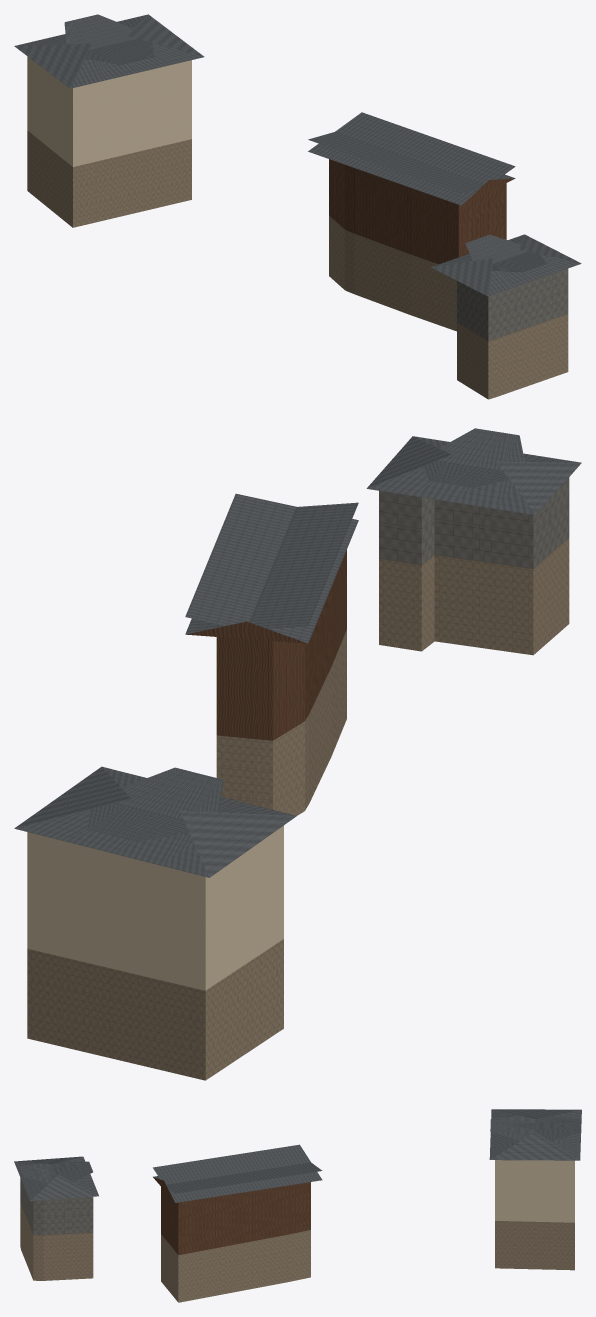
The model's file is bld_c6_9_478.gltf.
3 views of the same model, one above another, from view 1: azimuth 30°, elevation 25°; view 2: azimuth 150°, elevation 25°; view 3: azimuth 270°, elevation 25° (orthographic). The views are drawn at different scales.
Parts seen in each view (by area): view 1: bld_c6_9_478; view 2: bld_c6_9_478; view 3: bld_c6_9_478.
Part boxes in pixels (box(x1,y1,x2,y2)): bld_c6_9_478: box(14, 14, 581, 399); bld_c6_9_478: box(14, 428, 581, 1080); bld_c6_9_478: box(14, 1109, 581, 1302).
Size of the model in its own units: 21.4 by 13 by 55.24.
Materials: 6 (6 with a texture image).
